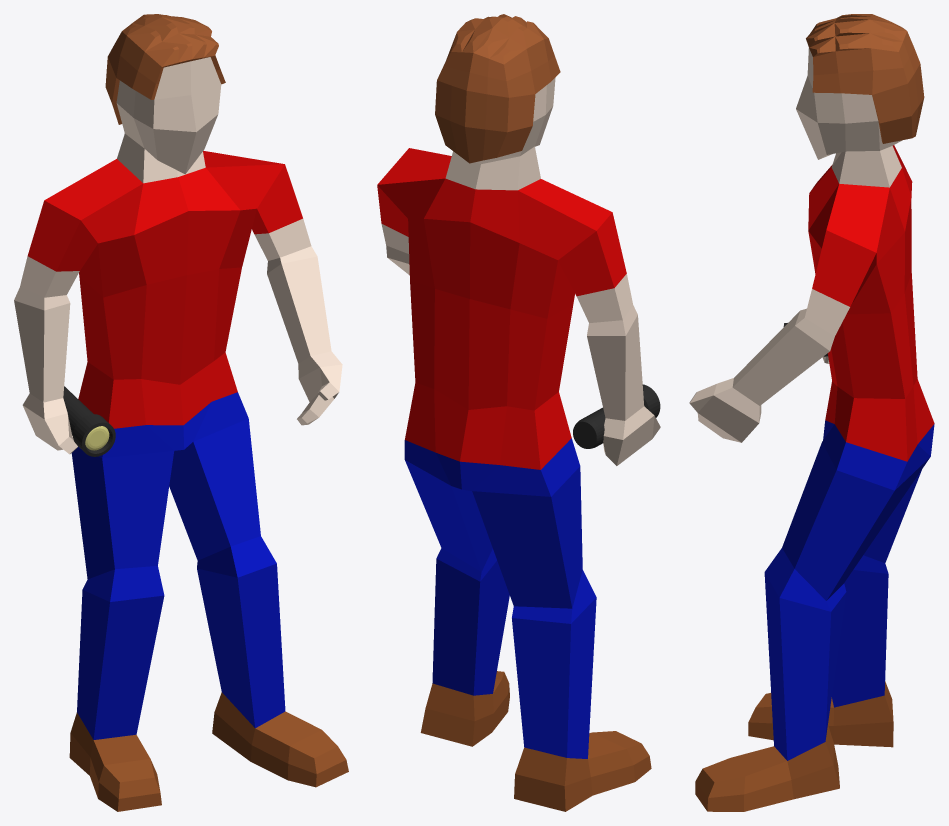
The model's file is Human_grabbing_49.fbx.
3 renders of one model, left to right at view 1: azimuth 30°, elevation 25°; view 2: azimuth 150°, elevation 25°; view 3: azimuth 270°, elevation 25°, orthographic. The views are drawn at different scales.
Visible parts, largest first — view 1: Person.003, Cylinder.002; view 2: Person.003, Cylinder.002; view 3: Person.003.
Part boxes in pixels (x1,y1,x2,y2): Person.003: [14, 14, 348, 811]; Cylinder.002: [63, 386, 115, 456]; Person.003: [377, 14, 660, 811]; Cylinder.002: [573, 384, 660, 448]; Person.003: [689, 14, 934, 811].
Bounding box in the file's own units: 0.5835 × 1.57 × 0.4675.
